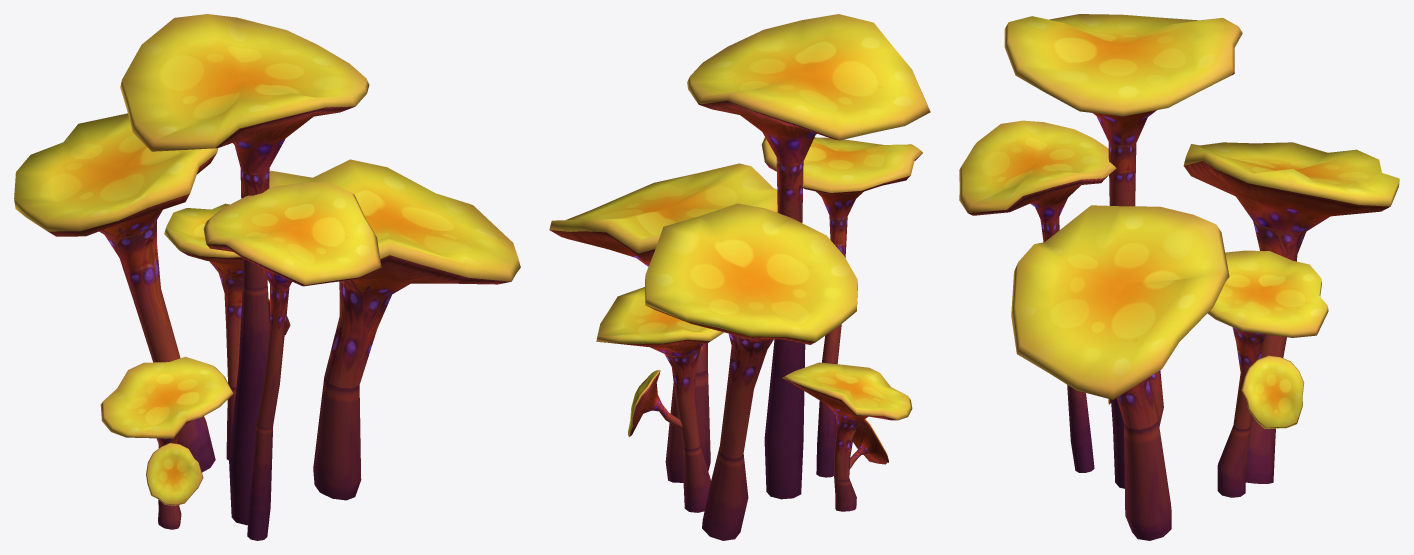
File: Battle01_Cao_12.FBX
3 renders of one model, left to right at view 1: azimuth 30°, elevation 25°; view 2: azimuth 150°, elevation 25°; view 3: azimuth 270°, elevation 25°, orthographic. The views are drawn at different scales.
Parts seen in each view (by area): view 1: Battle01_Cao_12_01, Battle01_Cao_12_02; view 2: Battle01_Cao_12_01, Battle01_Cao_12_02; view 3: Battle01_Cao_12_01, Battle01_Cao_12_02.
Part boxes in pixels (x1,y1,x2,y2): Battle01_Cao_12_01: [120, 14, 520, 540]; Battle01_Cao_12_02: [14, 113, 290, 529]; Battle01_Cao_12_01: [549, 14, 930, 499]; Battle01_Cao_12_02: [596, 203, 912, 540]; Battle01_Cao_12_01: [959, 14, 1242, 540]; Battle01_Cao_12_02: [1108, 142, 1399, 497].
Size of the model in its own units: 3.18 by 3.6 by 3.18.
